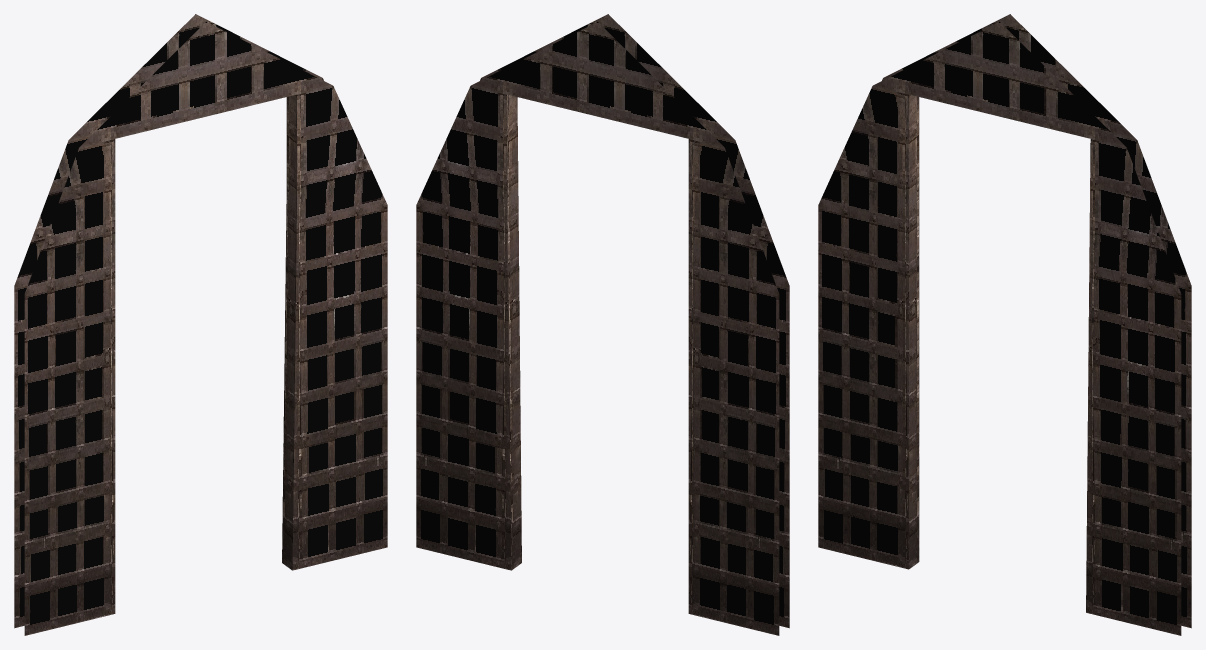
Rendered from cell_doorframe_nosides.glb.
The picture shows the model from 3 angles, left to right: view 1: azimuth 30°, elevation 25°; view 2: azimuth 150°, elevation 25°; view 3: azimuth 330°, elevation 25°; orthographic projection.
Visible parts, largest first — view 1: cell_doorframe; view 2: cell_doorframe; view 3: cell_doorframe.
Part boxes in pixels (left/top/right/bottom): cell_doorframe: left=14, top=14, right=387, bottom=635; cell_doorframe: left=416, top=14, right=789, bottom=635; cell_doorframe: left=818, top=14, right=1191, bottom=635.
Bounding box in the file's own units: 2 × 3 × 0.1.
Materials: 1 (1 with a texture image).
